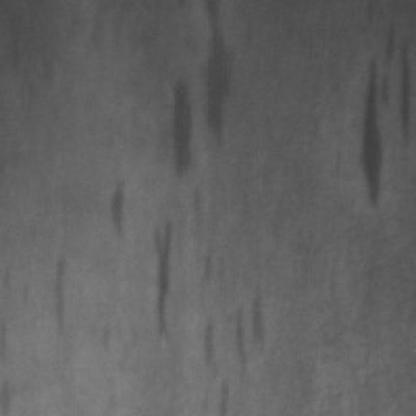inclusion: (345, 47, 393, 218), (189, 287, 277, 375), (189, 0, 239, 150), (137, 210, 185, 341), (150, 73, 195, 179), (37, 241, 79, 345), (92, 170, 138, 245)
